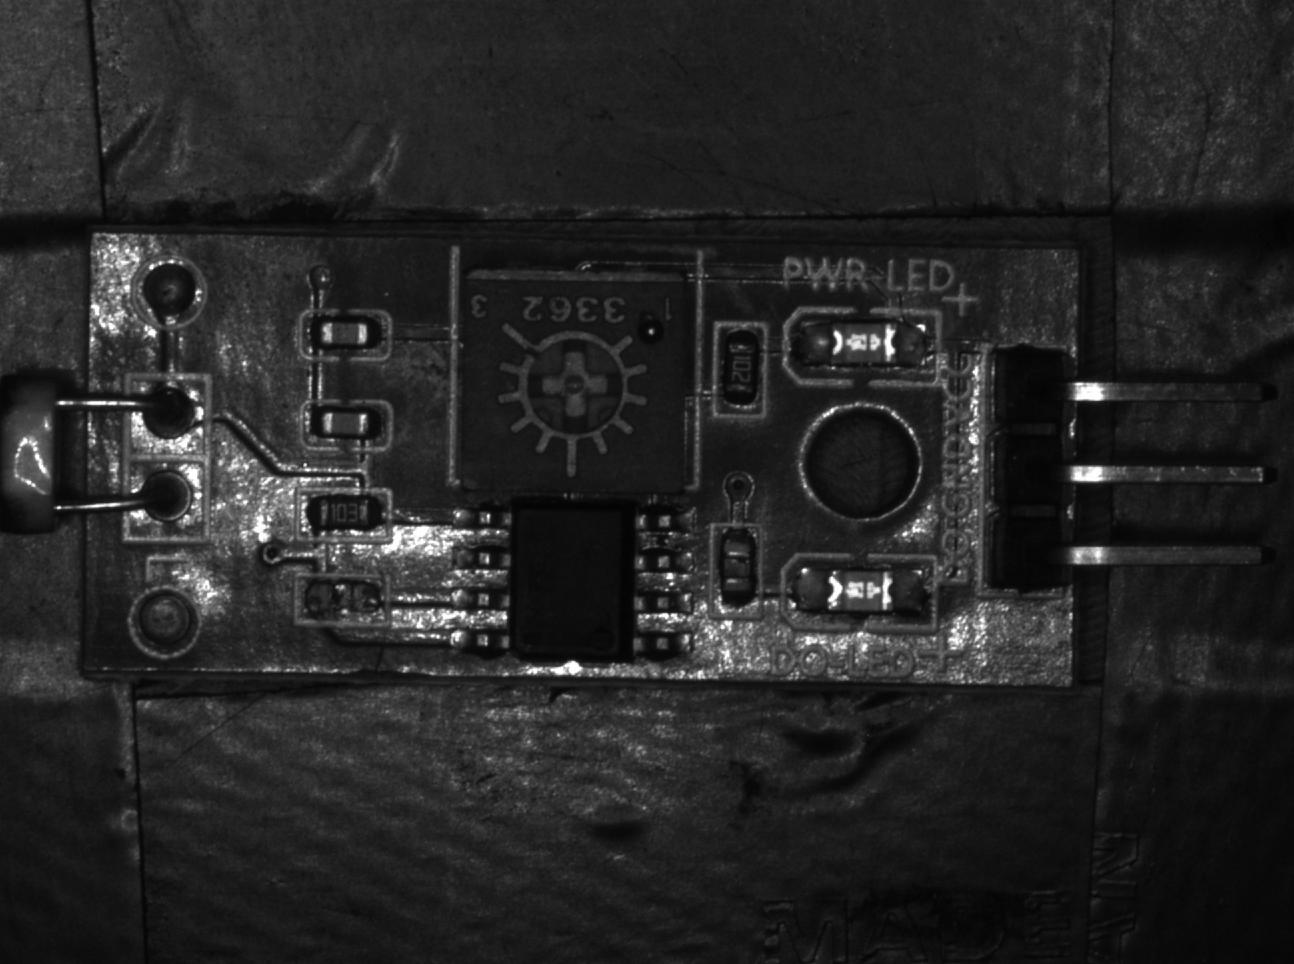miss: (709, 521, 764, 619), (295, 574, 393, 628)
ok: (296, 485, 398, 541), (715, 320, 769, 423), (300, 306, 390, 365), (299, 401, 394, 453)
